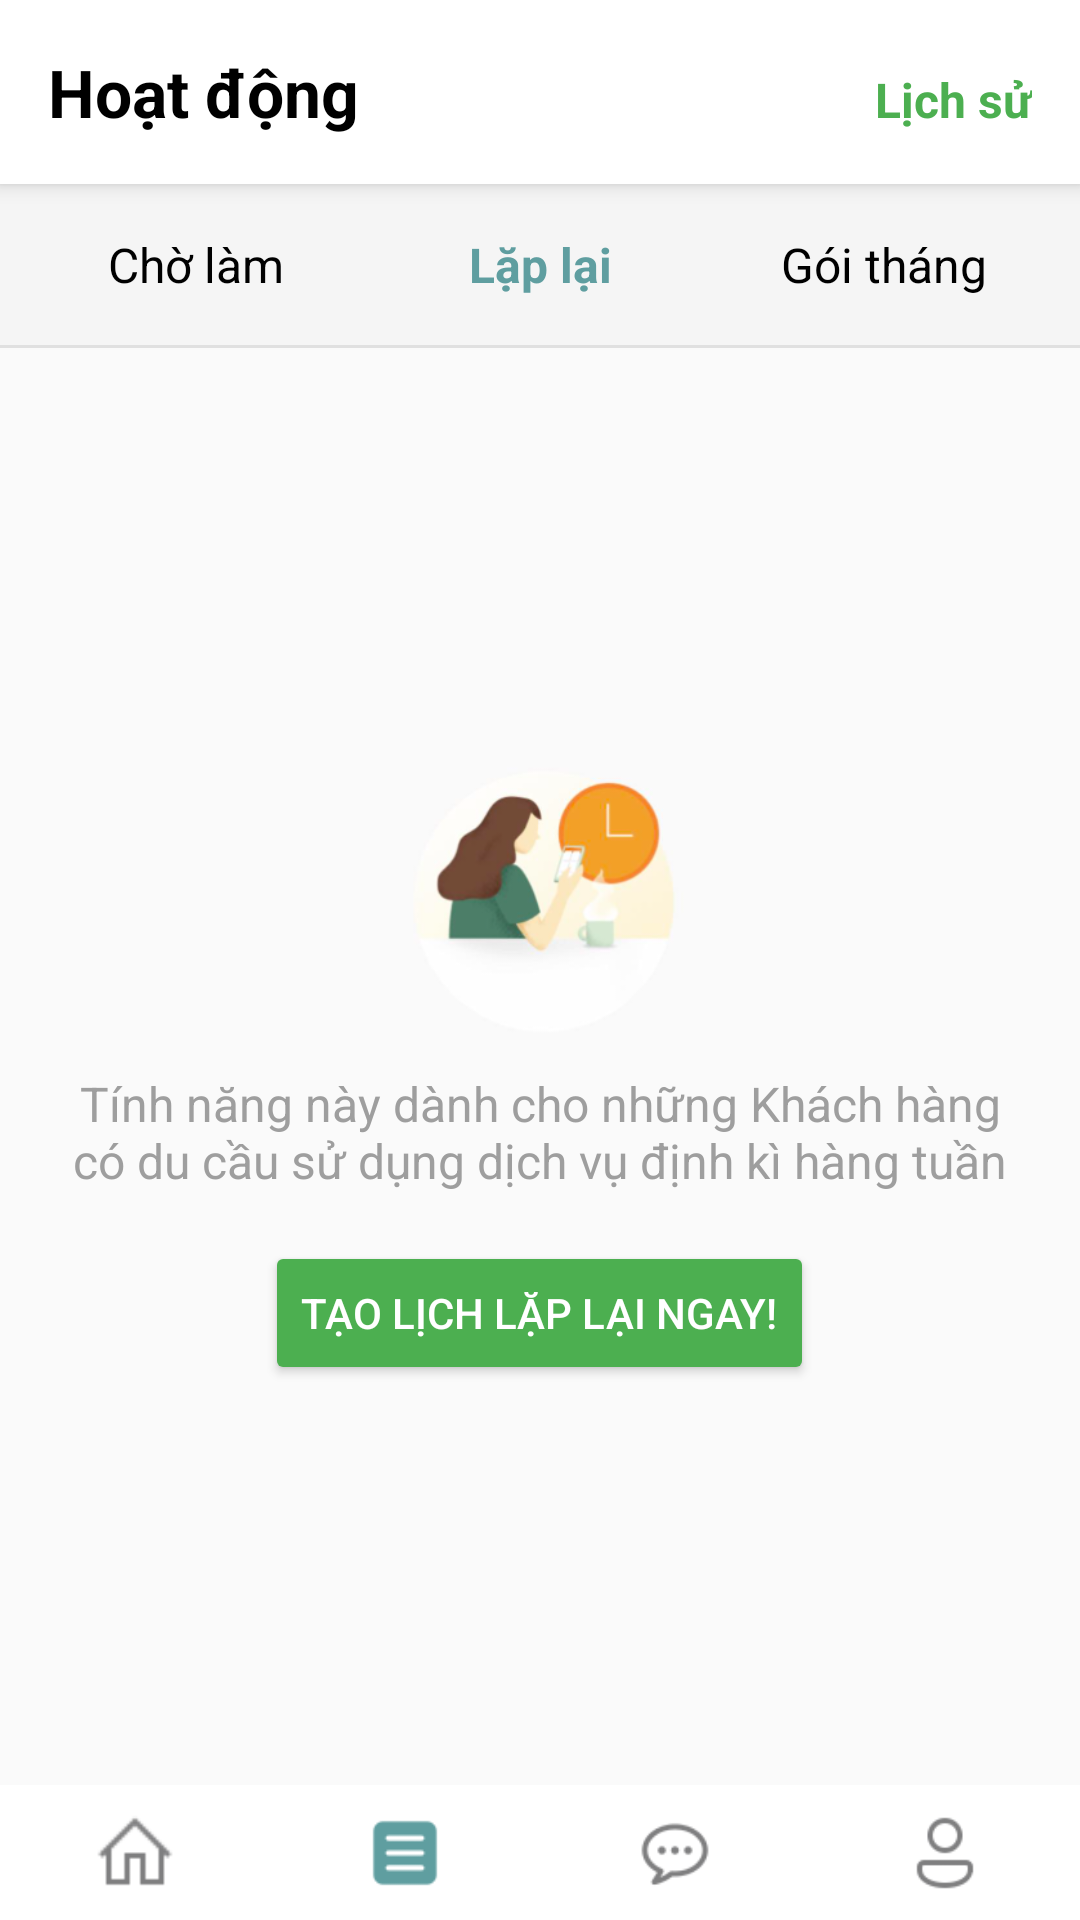

Point at icon controls on the screen. Image size 1080x1920, points as [x,y].
Home: [135,1851]
Profile: [945,1853]
Support: [675,1854]
